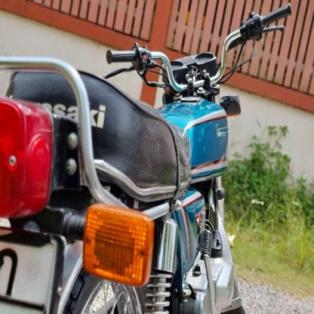Motocicleta: (0, 0, 299, 313)
